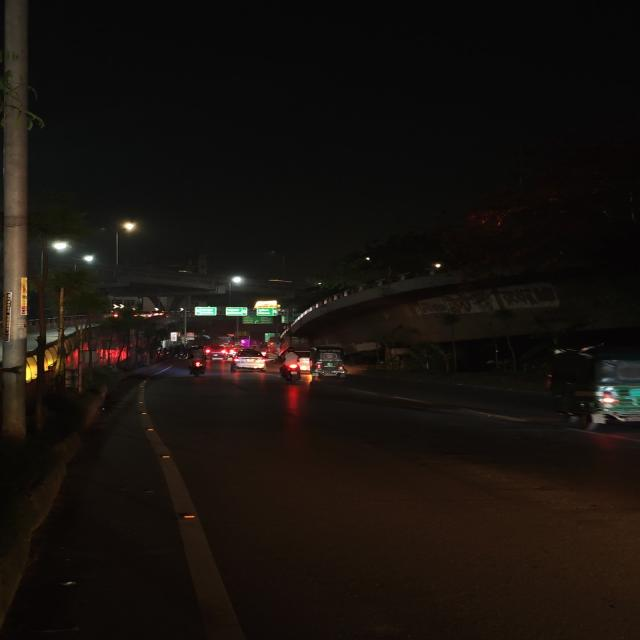car: (229, 348, 269, 374), (202, 344, 228, 360)
cng: (546, 340, 640, 430), (309, 346, 352, 380)
motorcycle: (278, 348, 304, 385), (186, 355, 210, 379)
